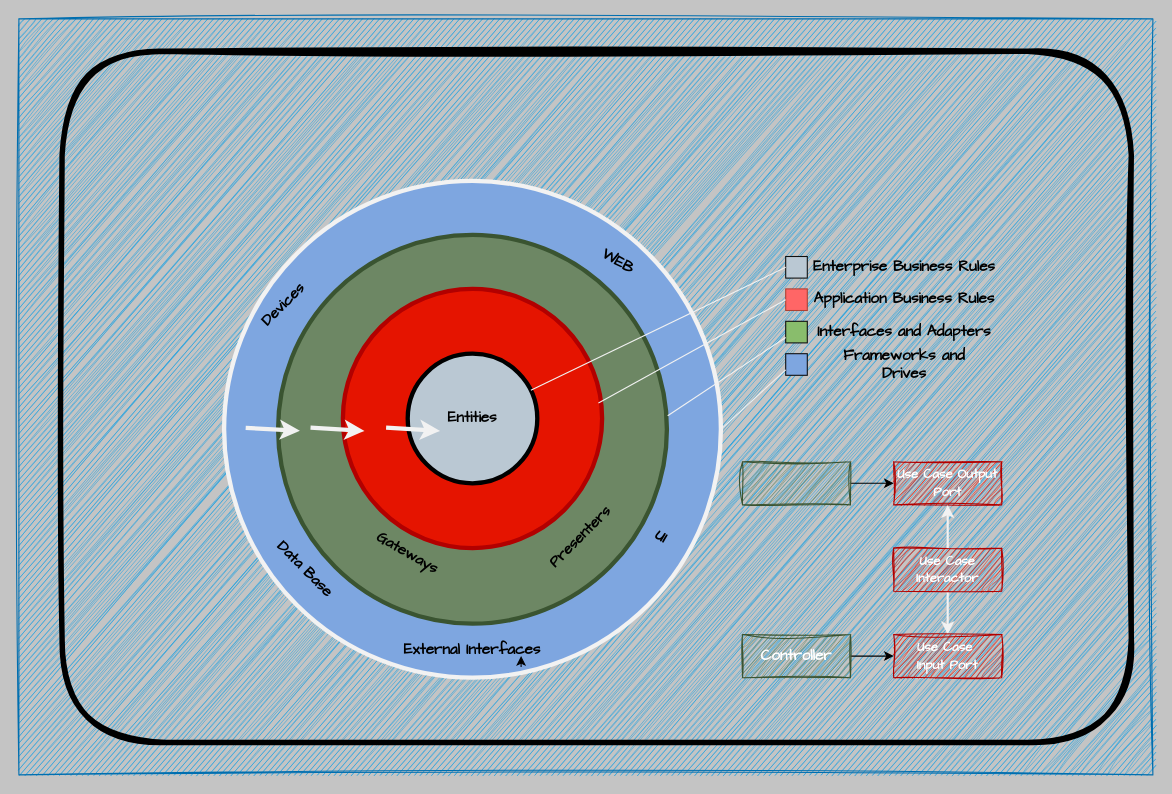
The diagram is 1172 pixels wide and 794 high, and some of its shapes have lost their labels. The box of each missing label's shape, as (x1, y1, x2, y2) in pixels:
Controllers: (275, 232, 669, 625)
Presenter: (741, 461, 850, 505)
Use Cases: (340, 286, 604, 550)
